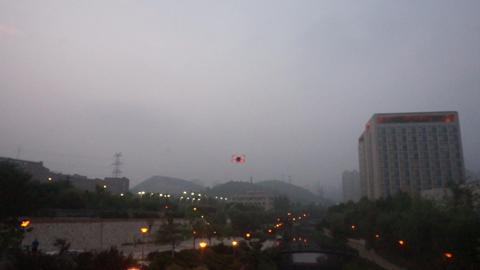UAV: (231, 154, 246, 164)
